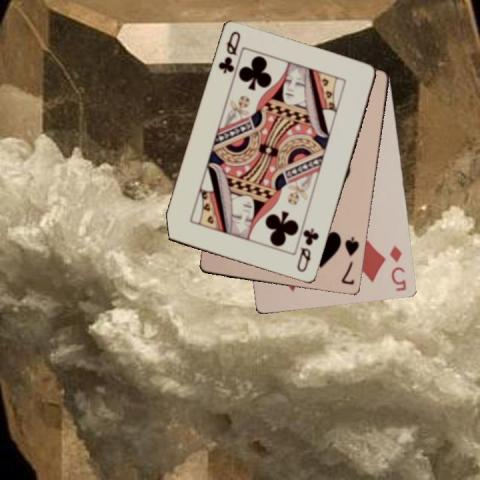5d: (387, 242, 408, 293)
7s: (338, 234, 360, 287)
Qc: (294, 225, 321, 274), (215, 28, 242, 75)
